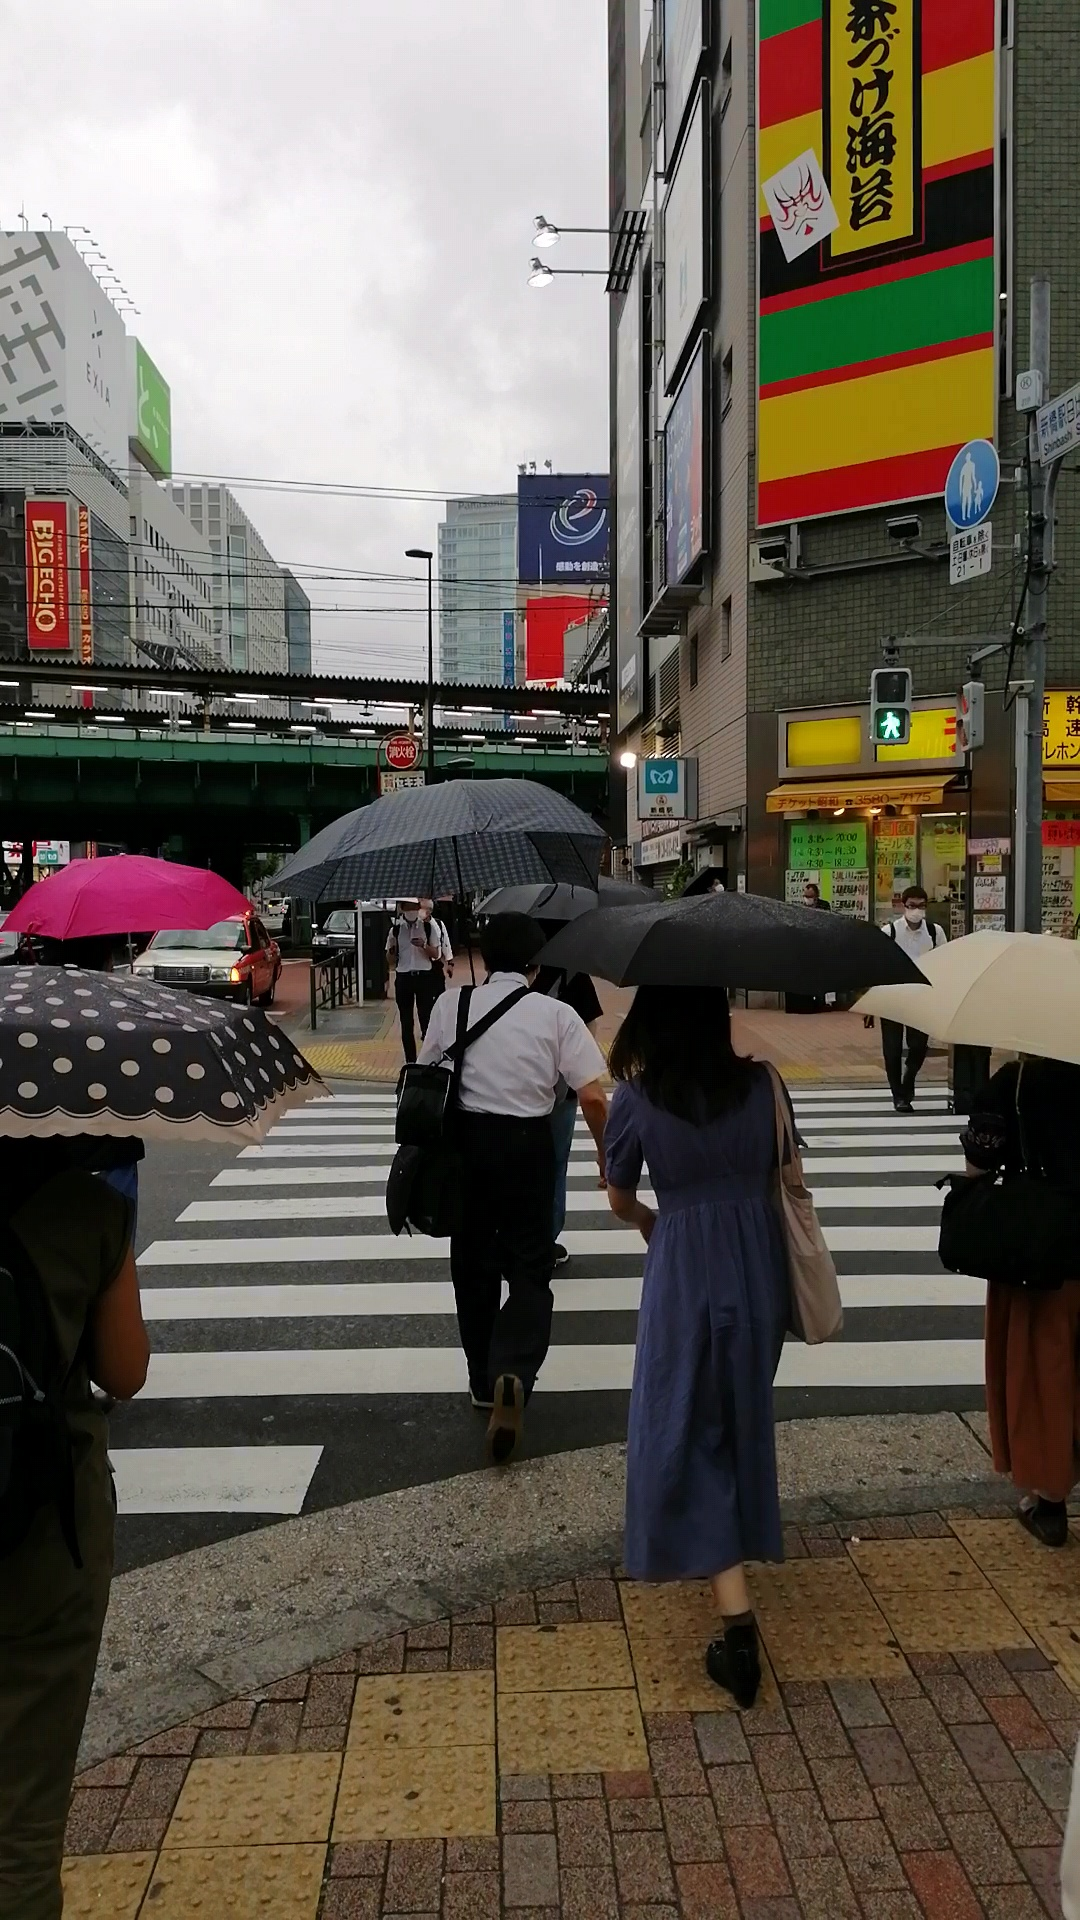green: (869, 666, 913, 744)
